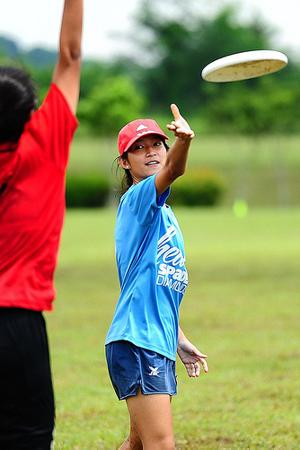person: (106, 103, 209, 447)
